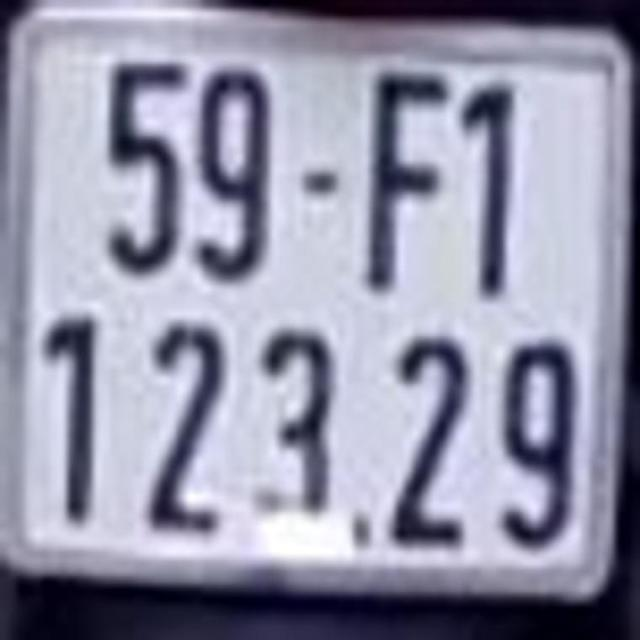1: (459, 71, 521, 299), (39, 311, 105, 524)
2: (387, 324, 471, 550), (145, 315, 226, 535)
3: (254, 319, 334, 546)
5: (102, 54, 186, 276)
9: (193, 55, 274, 284), (496, 328, 579, 550)
F: (364, 63, 451, 292)
